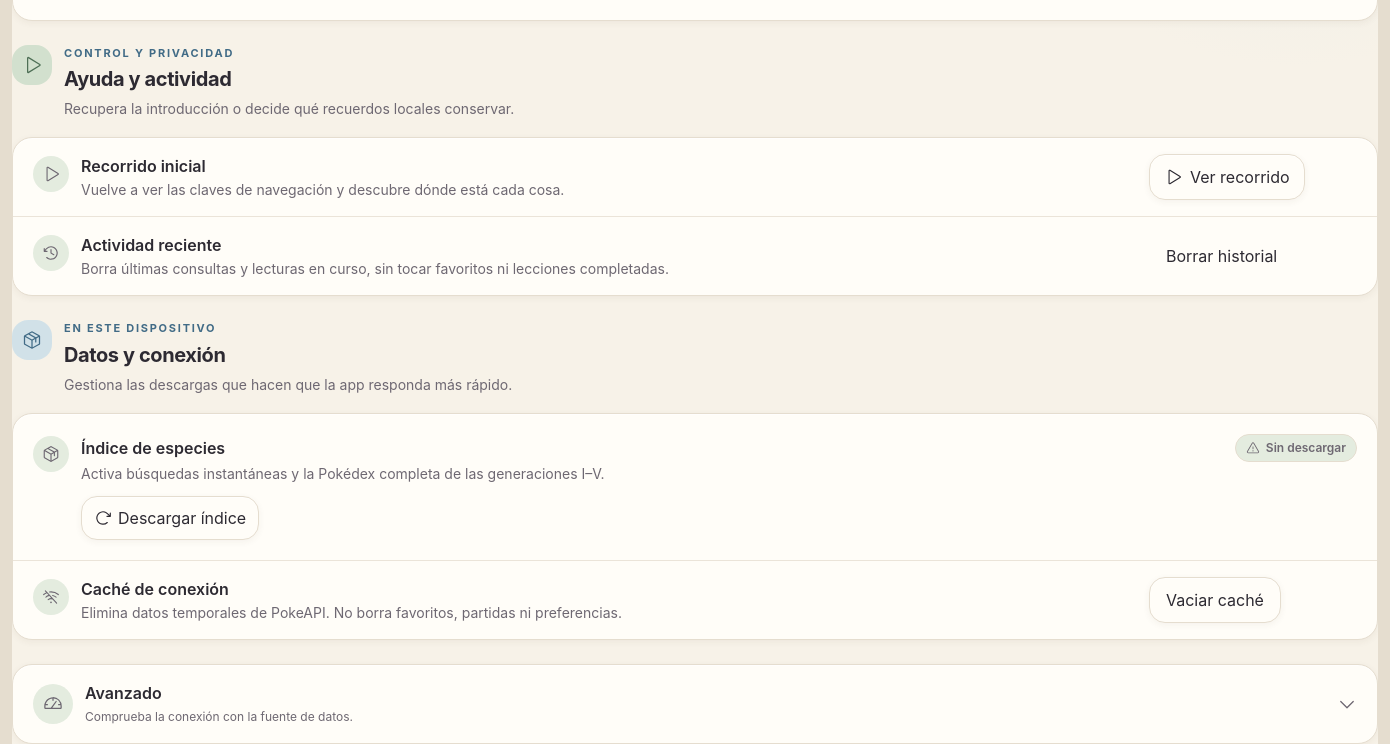
Test: Ajustes › mantiene el diagnóstico técnico plegado hasta que se solicita
(page scrolled)
Expected: the button "Comprobar conexión" is not shown
Click the button "Avanzado Comprueba la conexión con la fuente de datos." at (53, 704), box [13,665,1377,743]
(page scrolled)
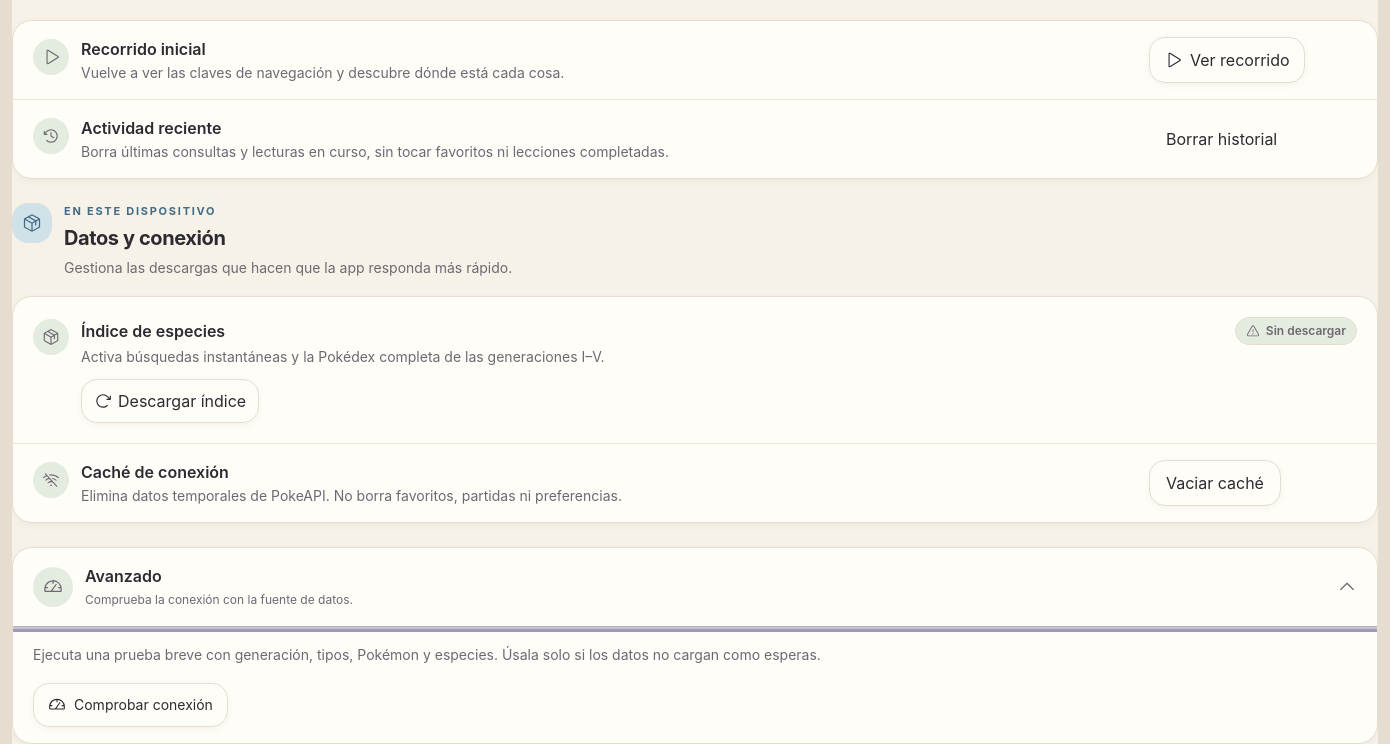
Expected: the button "Comprobar conexión" is shown, [33,683,228,727]
